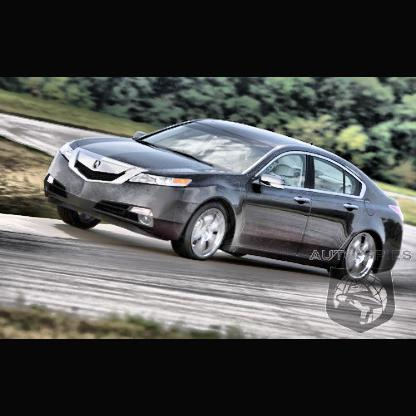Acura TL Sedan 2012: (45, 115, 406, 282)
